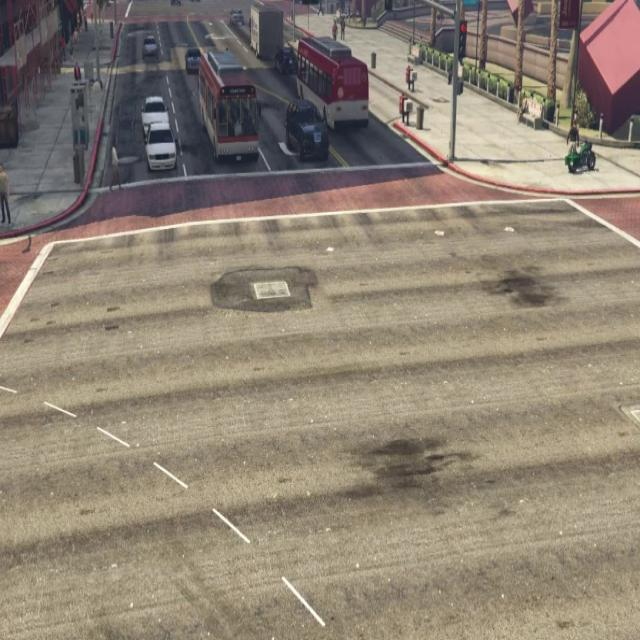Red-Signal: (454, 13, 475, 66), (380, 0, 399, 16)
